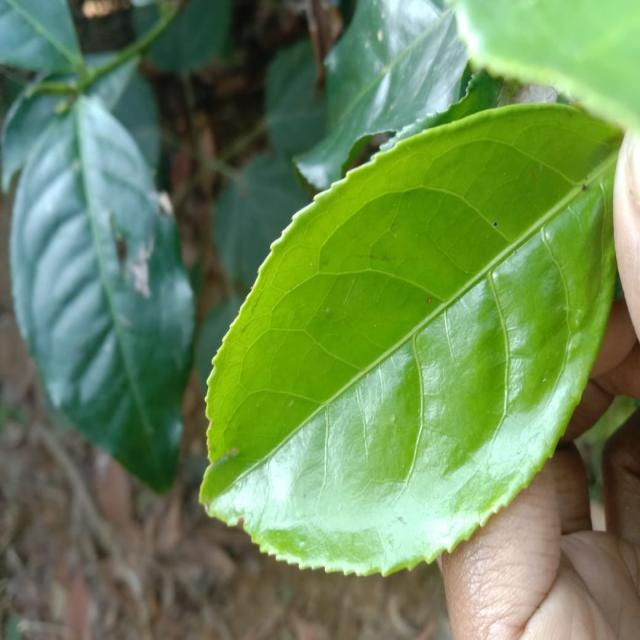Category B(2-4 days): (182, 85, 632, 578)
